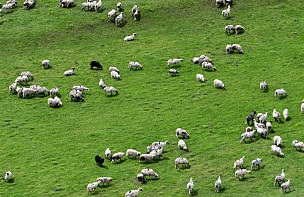sheep: (172, 156, 194, 170), (233, 167, 255, 181), (114, 11, 131, 28), (183, 178, 198, 197), (269, 146, 286, 162), (244, 111, 262, 126), (71, 90, 90, 103), (86, 180, 102, 195), (268, 106, 283, 122), (191, 51, 209, 64), (109, 151, 127, 164), (71, 84, 92, 95), (250, 156, 265, 171), (229, 41, 245, 55), (106, 5, 120, 21), (274, 169, 288, 185), (291, 135, 304, 152), (167, 55, 186, 66), (121, 188, 144, 197), (124, 148, 141, 160), (231, 156, 248, 168), (128, 61, 146, 72), (4, 172, 18, 186), (94, 154, 107, 169), (87, 60, 103, 72), (29, 83, 45, 95), (282, 181, 294, 197), (250, 119, 266, 131), (212, 175, 222, 194), (46, 96, 60, 109), (269, 135, 282, 149), (124, 33, 140, 44), (22, 85, 38, 96), (239, 130, 255, 141), (256, 80, 272, 91), (213, 78, 226, 91), (224, 43, 238, 55), (202, 61, 217, 72), (62, 67, 78, 77), (20, 71, 36, 81), (234, 23, 248, 34), (132, 11, 146, 22), (278, 107, 289, 121), (223, 24, 238, 34), (62, 1, 77, 11), (273, 88, 288, 98), (1, 3, 17, 12), (12, 84, 25, 95), (257, 111, 270, 122), (140, 154, 155, 163), (196, 74, 211, 83), (79, 1, 90, 13), (96, 77, 107, 89), (110, 69, 123, 79), (99, 177, 112, 187), (255, 128, 268, 138), (223, 4, 232, 18), (167, 67, 181, 76), (38, 57, 49, 68), (115, 1, 125, 13), (49, 88, 61, 98), (142, 168, 154, 178), (108, 66, 121, 75), (14, 76, 28, 84), (152, 141, 168, 148), (23, 1, 35, 10), (107, 89, 120, 97), (131, 5, 142, 14), (103, 148, 112, 159), (87, 1, 94, 14), (94, 1, 103, 11), (148, 146, 156, 156), (157, 146, 165, 156), (138, 174, 146, 181)
